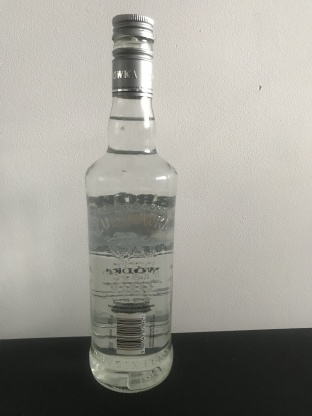nakretka: (110, 12, 155, 99)
